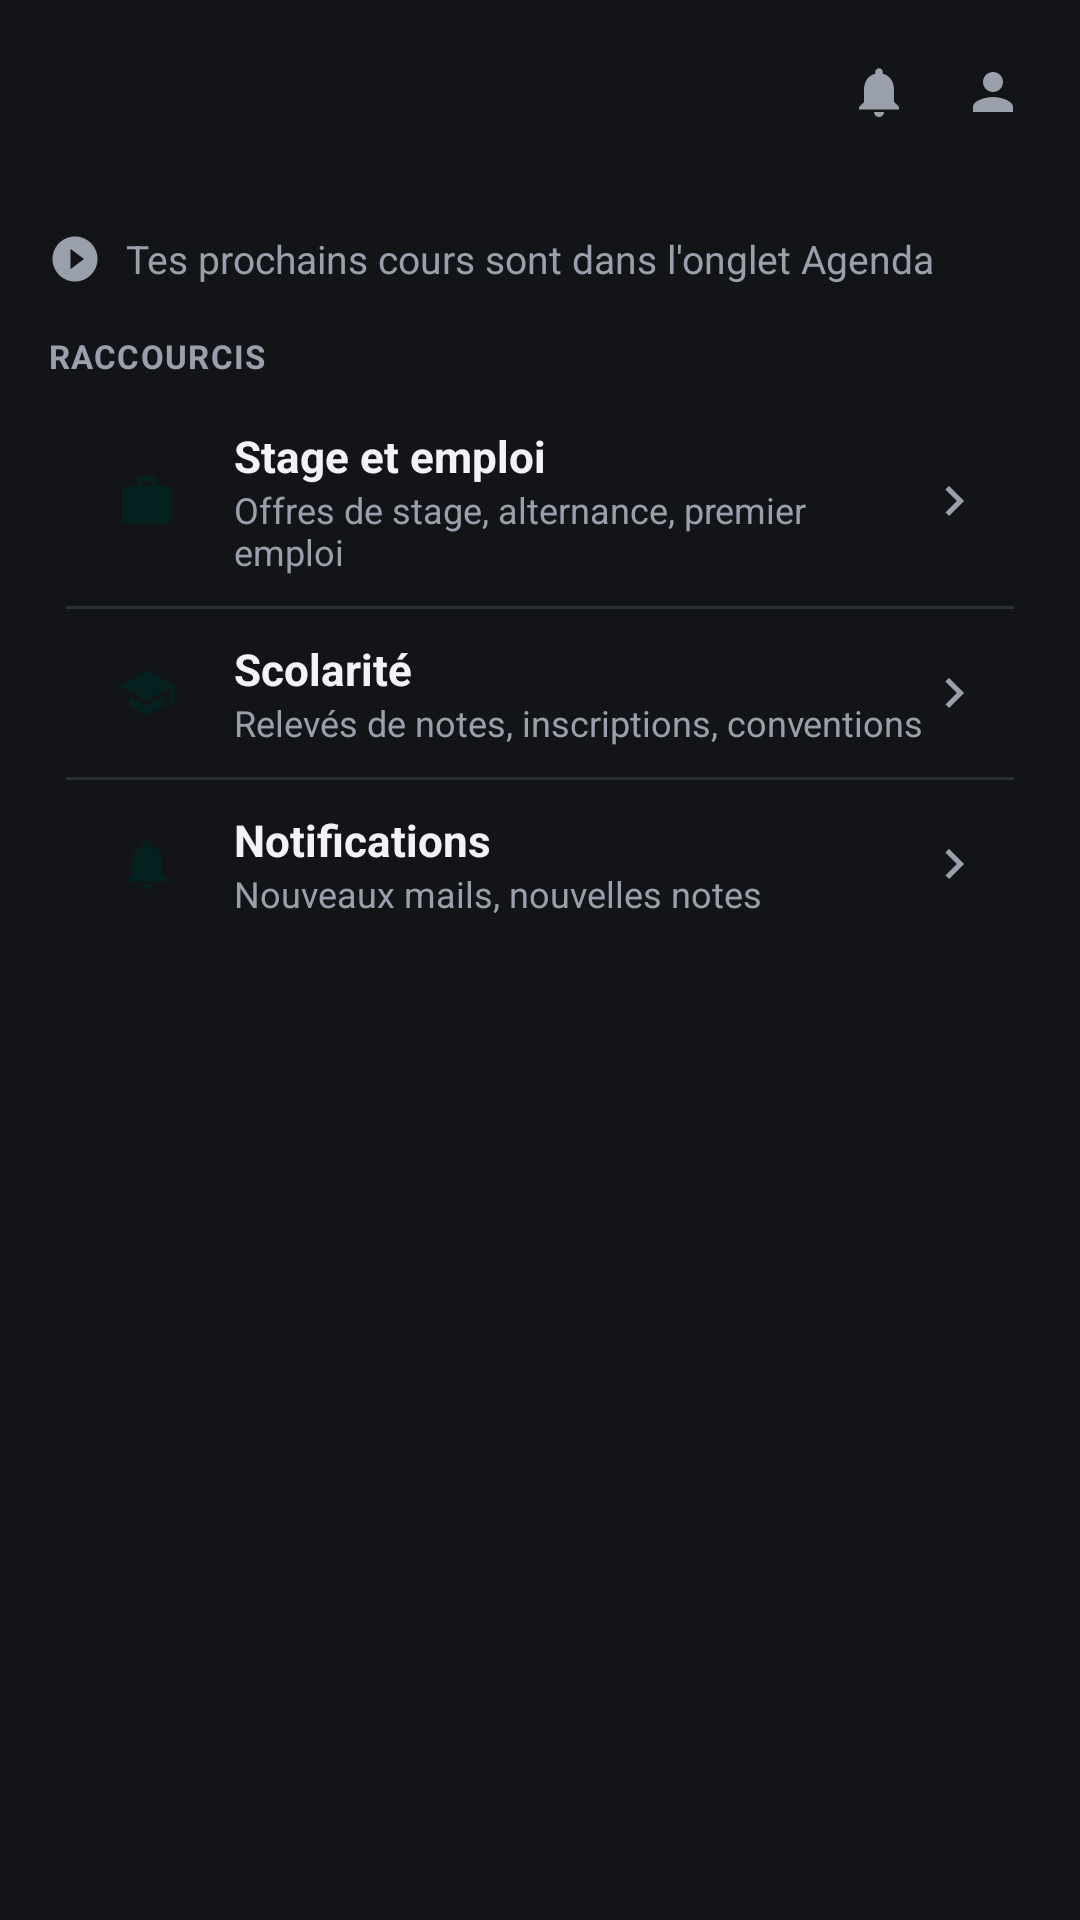

Named icons in this screenshot (1080*1920) and their centers, point (x, y):
chevron right: point (954, 501), point (954, 693), point (954, 864)
Notifications: point (879, 92)
play circle: point (75, 259)
Profil: point (993, 92)
